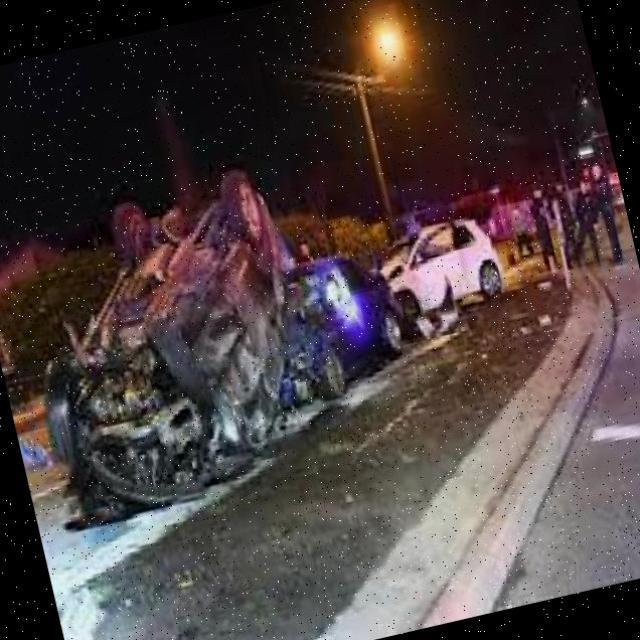accident: (1, 159, 328, 539), (256, 235, 416, 418), (361, 207, 511, 330)
